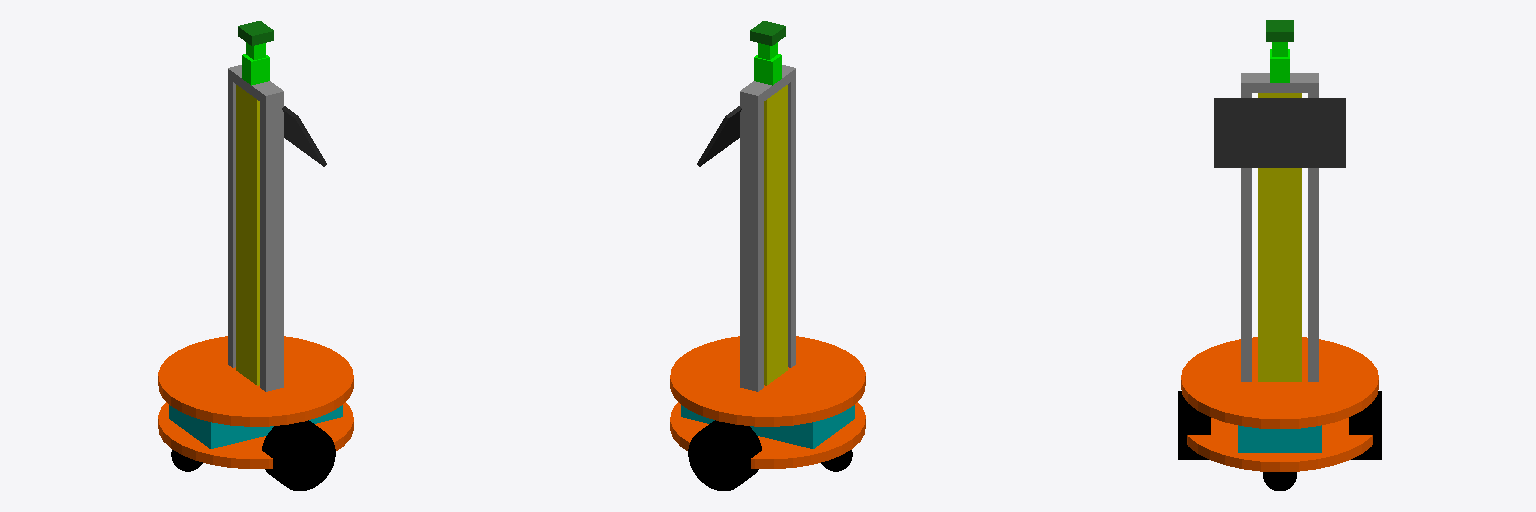
URDF robot description (mybot_xacro):
<?xml version="1.0" ?>
<!-- =================================================================================== -->
<!-- |    This document was autogenerated by xacro from mybot.xacro                    | -->
<!-- |    EDITING THIS FILE BY HAND IS NOT RECOMMENDED                                 | -->
<!-- =================================================================================== -->
<robot name="mybot_xacro" xmlns:controller="http://playerstage.sourceforge.net/gazebo/xmlschema/#controller" xmlns:interface="http://playerstage.sourceforge.net/gazebo/xmlschema/#interface" xmlns:sensor="http://playerstage.sourceforge.net/gazebo/xmlschema/#sensor" xmlns:xacro="http://ros.org/wiki/xacro">
  <!-- KINECT ATTACHMENT -->
  <joint name="camera_rgb_joint" type="fixed">
    <!--origin xyz="${cam_px} ${cam_py} ${cam_pz}" rpy="${cam_or} ${cam_op} ${cam_oy}"/-->
    <origin rpy="0 0 0" xyz="0.028 -0.0125 0.075"/>
    <parent link="kinect_base_link"/>
    <child link="camera_rgb_frame"/>
  </joint>
  <link name="camera_rgb_frame">
    <inertial>
      <mass value="0.001"/>
      <origin xyz="0 0 0"/>
      <inertia ixx="0.0001" ixy="0.0" ixz="0.0" iyy="0.0001" iyz="0.0" izz="0.0001"/>
    </inertial>
  </link>
  <joint name="camera_rgb_optical_joint" type="fixed">
    <origin rpy="-1.57079632679 0 -1.57079632679" xyz="0 0 0"/>
    <parent link="camera_rgb_frame"/>
    <child link="camera_rgb_optical_frame"/>
  </joint>
  <link name="camera_rgb_optical_frame">
    <inertial>
      <mass value="0.001"/>
      <origin xyz="0 0 0"/>
      <inertia ixx="0.0001" ixy="0.0" ixz="0.0" iyy="0.0001" iyz="0.0" izz="0.0001"/>
    </inertial>
  </link>
  <joint name="camera_joint" type="fixed">
    <origin rpy="0 0 0" xyz="-0.031 0.0125 -0.016"/>
    <parent link="camera_rgb_frame"/>
    <child link="camera_link"/>
  </joint>
  <link name="camera_link">
    <visual>
      <!--origin xyz="0 0 0" rpy="0 0 ${M_PI/2}"/-->
      <origin rpy="0 0 1.57079632679" xyz="0 0 0"/>
      <geometry>
        <mesh filename="package://mybot_description/meshes/sensors/kinect.dae"/>
      </geometry>
    </visual>
    <collision>
      <origin rpy="0 0 0" xyz="0.0 0.0 0.0"/>
      <geometry>
        <box size="0.07271 0.27794 0.073"/>
      </geometry>
    </collision>
    <inertial>
      <mass value="0.001"/>
      <origin xyz="0 0 0"/>
      <inertia ixx="0.0001" ixy="0.0" ixz="0.0" iyy="0.0001" iyz="0.0" izz="0.0001"/>
    </inertial>
  </link>
  <joint name="camera_depth_joint" type="fixed">
    <origin rpy="0 0 0" xyz="0 0.025 0"/>
    <parent link="camera_rgb_frame"/>
    <child link="camera_depth_frame"/>
  </joint>
  <link name="camera_depth_frame">
    <inertial>
      <mass value="0.001"/>
      <origin xyz="0 0 0"/>
      <inertia ixx="0.0001" ixy="0.0" ixz="0.0" iyy="0.0001" iyz="0.0" izz="0.0001"/>
    </inertial>
  </link>
  <joint name="camera_depth_optical_joint" type="fixed">
    <origin rpy="-1.57079632679 0 -1.57079632679" xyz="0 0 0"/>
    <parent link="camera_depth_frame"/>
    <child link="camera_depth_optical_frame"/>
  </joint>
  <link name="camera_depth_optical_frame">
    <inertial>
      <mass value="0.001"/>
      <origin xyz="0 0 0"/>
      <inertia ixx="0.0001" ixy="0.0" ixz="0.0" iyy="0.0001" iyz="0.0" izz="0.0001"/>
    </inertial>
  </link>
  <gazebo reference="camera_link">
    <sensor name="camera" type="depth">
      <always_on>true</always_on>
      <update_rate>20.0</update_rate>
      <camera>
        <horizontal_fov>1.0471975512</horizontal_fov>
        <image>
          <format>R8G8B8</format>
          <width>640</width>
          <height>480</height>
        </image>
        <clip>
          <near>0.05</near>
          <far>8.0</far>
        </clip>
      </camera>
      <plugin filename="libgazebo_ros_openni_kinect.so" name="kinect_camera_controller">
        <cameraName>camera</cameraName>
        <alwaysOn>true</alwaysOn>
        <updateRate>10</updateRate>
        <imageTopicName>rgb/image_raw</imageTopicName>
        <depthImageTopicName>depth/image_raw</depthImageTopicName>
        <pointCloudTopicName>depth/points</pointCloudTopicName>
        <cameraInfoTopicName>rgb/camera_info</cameraInfoTopicName>
        <depthImageCameraInfoTopicName>depth/camera_info</depthImageCameraInfoTopicName>
        <frameName>camera_depth_optical_frame</frameName>
        <baseline>0.1</baseline>
        <distortion_k1>0.0</distortion_k1>
        <distortion_k2>0.0</distortion_k2>
        <distortion_k3>0.0</distortion_k3>
        <distortion_t1>0.0</distortion_t1>
        <distortion_t2>0.0</distortion_t2>
        <pointCloudCutoff>0.4</pointCloudCutoff>
      </plugin>
    </sensor>
  </gazebo>
  <!-- LASER ATTACHMENT -->
  <link name="laser">
    <collision>
      <origin rpy="0 0 0" xyz="0 0 0"/>
      <geometry>
        <box size="0.1 0.1 0.1"/>
      </geometry>
    </collision>
    <visual>
      <origin rpy="0 0 0" xyz="0 0 0"/>
      <geometry>
        <mesh filename="package://mybot_description/meshes/sensors/hokuyo.dae"/>
      </geometry>
    </visual>
    <inertial>
      <mass value="1e-5"/>
      <origin rpy="0 0 0" xyz="0 0 0"/>
      <inertia ixx="1e-6" ixy="0" ixz="0" iyy="1e-6" iyz="0" izz="1e-6"/>
    </inertial>
  </link>
  <joint name="laser_joint" type="fixed">
    <axis xyz="0 0 0"/>
    <origin rpy="0 0 0" xyz="0.168 0 0.06"/>
    <parent link="upper_base_link"/>
    <child link="laser"/>
  </joint>
  <!-- Import all Gazebo-customization elements, including Gazebo colors, sensors, controller -->
  <gazebo>
    <plugin filename="libgazebo_ros_control.so" name="gazebo_ros_control">
      <robotNamespace>/mybot_xacro</robotNamespace>
    </plugin>
  </gazebo>
  <gazebo reference="base_link">
    <material>Gazebo/Orange</material>
  </gazebo>
  <gazebo reference="wheel_1">
    <!-- remove friction      
	<mu1>0.0</mu1> 
        <mu2>0.0</mu2>-->
    <!-- -->
    <mu1 value="0.0"/>
    <mu2 value="0.0"/>
    <material>Gazebo/Black</material>
  </gazebo>
  <gazebo reference="wheel_2">
    <material>Gazebo/Black</material>
    <!--
 	<mu1>1000000.0</mu1>
 	<mu2>1000000.0</mu2>
	-->
    <mu1>1000000.0</mu1>
    <mu2>1000000.0</mu2>
    <kp>1000000.0</kp>
    <!--kd>0.5</kd-->
    <kd>100</kd>
    <minDepth>0.001</minDepth>
    <maxVel>1.0</maxVel>
  </gazebo>
  <gazebo reference="wheel_3">
    <!-- remove friction 
	<mu1>0.0</mu1> 
        <mu2>0.0</mu2> -->
    <!-- -->
    <mu1 value="0.0"/>
    <mu2 value="0.0"/>
    <material>Gazebo/Black</material>
  </gazebo>
  <gazebo reference="wheel_4">
    <material>Gazebo/Black</material>
    <mu1>1000000.0</mu1>
    <mu2>1000000.0</mu2>
    <kp>1000000.0</kp>
    <!--kd>0.5</kd-->
    <kd>100.0</kd>
    <minDepth>0.001</minDepth>
    <maxVel>1.0</maxVel>
  </gazebo>
  <gazebo reference="laser">
    <sensor name="head_hokuyo_sensor" type="gpu_ray">
      <pose>0 0 0 0 0 0</pose>
      <visualize>false</visualize>
      <update_rate>40</update_rate>
      <ray>
        <scan>
          <horizontal>
            <samples>720</samples>
            <resolution>1</resolution>
            <!--
	    <min_angle>-1.570796</min_angle>
            <max_angle>1.570796</max_angle> -->
            <min_angle>-2.09</min_angle>
            <max_angle>2.09</max_angle>
          </horizontal>
        </scan>
        <range>
          <min>0.10</min>
          <!--max>30.0</max-->
          <max>8.0</max>
          <resolution>0.01</resolution>
        </range>
        <noise>
          <type>gaussian</type>
          <!-- Noise parameters based on published spec for Hokuyo laser
               achieving "+-30mm" accuracy at range < 10m.  A mean of 0.0m and
               stddev of 0.01m will put 99.7% of samples within 0.03m of the true
               reading. -->
          <mean>0.0</mean>
          <stddev>0.01</stddev>
        </noise>
      </ray>
      <plugin filename="libgazebo_ros_gpu_laser.so" name="gazebo_ros_head_hokuyo_controller">
        <topicName>/scan</topicName>
        <frameName>laser</frameName>
      </plugin>
    </sensor>
  </gazebo>
  <gazebo>
    <plugin filename="libgazebo_ros_diff_drive.so" name="differential_drive_controller">
      <rosDebugLevel>Debug</rosDebugLevel>
      <publishWheelTF>false</publishWheelTF>
      <!--publishTf>1</publishTf-->
      <publishWheelJointState>true</publishWheelJointState>
      <alwaysOn>true</alwaysOn>
      <updateRate>100</updateRate>
      <leftJoint>base_to_wheel2</leftJoint>
      <rightJoint>base_to_wheel4</rightJoint>
      <wheelSeparation>0.390</wheelSeparation>
      <wheelDiameter>0.155</wheelDiameter>
      <wheelTorque>30</wheelTorque>
      <wheelAcceleration>0.25</wheelAcceleration>
      <!-- roslaunch turtlebot_teleop keyboard_teleop.launch 
    <commandTopic>/eddie/command_velocity</commandTopic>
    -->
      <!-- -->
      <commandTopic>cmd_vel</commandTopic>
      <odometryTopic>odom</odometryTopic>
      <odometryFrame>odom</odometryFrame>
      <!--odometrySource>1</odometrySource-->
      <robotBaseFrame>base_footprint</robotBaseFrame>
    </plugin>
  </gazebo>
  <!-- Add view camera - working -->
  <joint name="view_camera_joint" type="continuous">
    <origin rpy="0 1.570796 0" xyz="0 0 6"/>
    <parent link="kinect_base_link"/>
    <child link="view_camera_link"/>
    <!-- use the following line and type="continuous" to fix the angle of the view camera -->
    <axis xyz="1 0 0"/>
  </joint>
  <link name="view_camera_link">
    <inertial>
      <!-- <mass value="0" /> -->
      <mass value="1e-5"/>
      <origin rpy="0 0 0" xyz="0 0 0"/>
      <inertia ixx="1e-6" ixy="0" ixz="0" iyy="1e-6" iyz="0" izz="1e-6"/>
    </inertial>
  </link>
  <gazebo reference="view_camera_link">
    <sensor name="view_camera" type="camera">
      <update_rate>30.0</update_rate>
      <camera name="head">
        <!--horizontal_fov>1.3962634</horizontal_fov-->
        <image>
          <!-- 960x540, 640x480, 800x600-->
          <width>800</width>
          <height>800</height>
          <format>R8G8B8</format>
        </image>
        <clip>
          <near>0.02</near>
          <far>300</far>
        </clip>
        <noise>
          <type>gaussian</type>
          <mean>0.0</mean>
          <stddev>0.007</stddev>
        </noise>
      </camera>
      <plugin filename="libgazebo_ros_camera.so" name="camera_controller">
        <alwaysOn>true</alwaysOn>
        <updateRate>25.0</updateRate>
        <cameraName>view_camera</cameraName>
        <imageTopicName>image_raw</imageTopicName>
        <cameraInfoTopicName>camera_info</cameraInfoTopicName>
        <frameName>view_camera_link</frameName>
        <CxPrime>320.5</CxPrime>
        <Cx>320.5</Cx>
        <Cy>240.5</Cy>
        <!-- image_width / (2*tan(hfov_radian /2)) -->
        <!-- 320 for wide and 772.55 for narrow stereo camera -->
        <focal_length>320</focal_length>
        <distortion_k1>0.0</distortion_k1>
        <distortion_k2>0.0</distortion_k2>
        <distortion_k3>0.0</distortion_k3>
        <distortion_t1>0.0</distortion_t1>
        <distortion_t2>0.0</distortion_t2>
      </plugin>
    </sensor>
    <!--turnGravityOff>true</turnGravityOff-->
    <material>Gazebo/Blue</material>
  </gazebo>
  <!--xacro:property name="height_torso" value="0.625" /-->
  <link name="base_footprint">
    <visual>
      <geometry>
        <box size="0.001 0.001 0.001"/>
      </geometry>
      <origin rpy="0 0 0" xyz="0 0 0"/>
      <!--origin rpy="0 0 -0.784900" xyz="0 0 0"/-->
    </visual>
    <inertial>
      <mass value="0.0001"/>
      <inertia ixx="1.0" ixy="0.0" ixz="0.0" iyy="1.0" iyz="0.0" izz="1.0"/>
    </inertial>
  </link>
  <gazebo reference="base_footprint">
    <material>Gazebo/Green</material>
    <turnGravityOff>false</turnGravityOff>
  </gazebo>
  <joint name="base_footprint_joint" type="fixed">
    <origin xyz="0 0 0"/>
    <parent link="base_footprint"/>
    <child link="base_link"/>
  </joint>
  <link name="base_link">
    <visual>
      <origin rpy="0 0 0" xyz="0 0 0"/>
      <geometry>
        <cylinder length="0.025" radius="0.225"/>
      </geometry>
      <material name="Orange">
        <color rgba="1.0 0.4 0.0 1.0"/>
      </material>
    </visual>
    <collision>
      <geometry>
        <cylinder length="0.025" radius="0.225"/>
      </geometry>
    </collision>
    <inertial>
      <mass value="10"/>
      <inertia ixx="0.571875" ixy="0" ixz="0" iyy="0.571875" iyz="0" izz="1.1390625"/>
    </inertial>
  </link>
  <!--front wheel -->
  <link name="wheel_1">
    <visual>
      <origin rpy="0 0 0" xyz="0 0 0"/>
      <geometry>
        <sphere radius="0.03875"/>
      </geometry>
      <material name="black">
        <color rgba="0 0 0 1"/>
      </material>
    </visual>
    <collision>
      <origin rpy="0 0 0" xyz="0 0 0"/>
      <geometry>
        <sphere radius="0.03875"/>
      </geometry>
    </collision>
    <inertial>
      <origin rpy="0 0 0" xyz="0 0 0"/>
      <mass value="2"/>
      <inertia ixx="0.00120125" ixy="0" ixz="0" iyy="0.00120125" iyz="0" izz="0.00120125"/>
    </inertial>
  </link>
  <!-- left wheel -->
  <link name="wheel_2">
    <visual>
      <geometry>
        <cylinder length="0.075" radius="0.0775"/>
      </geometry>
      <!-- <origin rpy="0 1.5 0" xyz="-0.1 0.1 0"/> -->
      <origin rpy="0 0 0" xyz="0 0 0"/>
      <material name="black"/>
    </visual>
    <collision>
      <origin rpy="0 0 0" xyz="0 0 0"/>
      <geometry>
        <cylinder length="0.075" radius="0.0775"/>
      </geometry>
    </collision>
    <inertial>
      <mass value="2"/>
      <inertia ixx="0.003940625" ixy="0" ixz="0" iyy="0.003940625" iyz="0" izz="0.00600625"/>
    </inertial>
  </link>
  <!-- back wheel -->
  <link name="wheel_3">
    <visual>
      <origin rpy="0 0 0" xyz="0 0 0"/>
      <geometry>
        <sphere radius="0.03875"/>
      </geometry>
      <material name="black">
        <color rgba="0 0 0 1"/>
      </material>
    </visual>
    <collision>
      <origin rpy="0 0 0" xyz="0 0 0"/>
      <geometry>
        <sphere radius="0.03875"/>
      </geometry>
    </collision>
    <inertial>
      <origin rpy="0 0 0" xyz="0 0 0"/>
      <mass value="2"/>
      <inertia ixx="0.00120125" ixy="0" ixz="0" iyy="0.00120125" iyz="0" izz="0.00120125"/>
    </inertial>
  </link>
  <!-- right wheel -->
  <link name="wheel_4">
    <visual>
      <geometry>
        <cylinder length="0.075" radius="0.0775"/>
      </geometry>
      <!--	<origin rpy="0 1.5 0" xyz="-0.1 -0.1 0"/> -->
      <origin rpy="0 0 0" xyz="0 0 0"/>
      <material name="black"/>
    </visual>
    <collision>
      <origin rpy="0 0 0" xyz="0 0 0"/>
      <geometry>
        <cylinder length="0.075" radius="0.0775"/>
      </geometry>
    </collision>
    <inertial>
      <mass value="2"/>
      <inertia ixx="0.003940625" ixy="0" ixz="0" iyy="0.003940625" iyz="0" izz="0.00600625"/>
    </inertial>
  </link>
  <link name="cpu_link">
    <visual>
      <geometry>
        <box size="0.35 .19 0.095"/>
      </geometry>
      <origin rpy="0 0 0" xyz="0 0 0.0475"/>
      <material name="Cyan2">
        <color rgba="0 0.7 0.7 1.0"/>
      </material>
    </visual>
    <collision>
      <origin rpy="0 0 0" xyz="0 0 0.0475"/>
      <geometry>
        <box size="0.35 .19 0.095"/>
      </geometry>
    </collision>
    <inertial>
      <mass value="2"/>
      <inertia ixx="1.0" ixy="0.0" ixz="0.0" iyy="1.0" iyz="0.0" izz="1.0"/>
    </inertial>
  </link>
  <link name="upper_base_link">
    <visual>
      <origin rpy="0 0 0" xyz="0 0 0.0125"/>
      <geometry>
        <cylinder length="0.025" radius="0.225"/>
      </geometry>
      <material name="Orange">
        <color rgba="1.0 0.4 0.0 1.0"/>
      </material>
    </visual>
    <collision>
      <origin rpy="0 0 0" xyz="0 0 0.0125"/>
      <geometry>
        <cylinder length="0.025" radius="0.225"/>
      </geometry>
    </collision>
    <inertial>
      <mass value="1"/>
      <inertia ixx="1.0" ixy="0.0" ixz="0.0" iyy="1.0" iyz="0.0" izz="1.0"/>
    </inertial>
  </link>
  <link name="torso_link">
    <visual>
      <origin rpy="0 0 0" xyz="0 0 0.3625"/>
      <geometry>
        <box size="0.05 0.1 0.725"/>
      </geometry>
      <material name="Yellow2">
        <color rgba="0.8 0.8 0 1.0"/>
      </material>
    </visual>
    <collision>
      <origin rpy="0 0 0" xyz="0 0 0.3625"/>
      <geometry>
        <box size="0.05 0.1 0.725"/>
      </geometry>
    </collision>
    <inertial>
      <mass value="1"/>
      <inertia ixx="1.0" ixy="0.0" ixz="0.0" iyy="1.0" iyz="0.0" izz="1.0"/>
    </inertial>
  </link>
  <link name="right_torso_link">
    <visual>
      <origin rpy="0 0 0" xyz="0 0 0.3625"/>
      <geometry>
        <box size="0.05 0.025 0.725"/>
      </geometry>
      <material name="Grey2">
        <color rgba="0.6 0.6 0.6 1.0"/>
      </material>
    </visual>
    <collision>
      <origin rpy="0 0 0" xyz="0 0 0.3625"/>
      <geometry>
        <box size="0.05 0.1 0.725"/>
      </geometry>
    </collision>
    <inertial>
      <mass value="1"/>
      <inertia ixx="1.0" ixy="0.0" ixz="0.0" iyy="1.0" iyz="0.0" izz="1.0"/>
    </inertial>
  </link>
  <link name="left_torso_link">
    <visual>
      <origin rpy="0 0 0" xyz="0 0 0.3625"/>
      <geometry>
        <box size="0.05 0.025 0.725"/>
      </geometry>
      <material name="Grey2">
        <color rgba="0.6 0.6 0.6 1.0"/>
      </material>
    </visual>
    <collision>
      <origin rpy="0 0 0" xyz="0 0 0.3625"/>
      <geometry>
        <box size="0.05 0.1 0.725"/>
      </geometry>
    </collision>
    <inertial>
      <mass value="1"/>
      <inertia ixx="1.0" ixy="0.0" ixz="0.0" iyy="1.0" iyz="0.0" izz="1.0"/>
    </inertial>
  </link>
  <link name="top_torso_link">
    <visual>
      <origin rpy="0 0 0" xyz="0 0 0.0125"/>
      <geometry>
        <box size="0.05 0.175 0.025"/>
      </geometry>
      <material name="Grey2">
        <color rgba="0.6 0.6 0.6 1.0"/>
      </material>
    </visual>
    <collision>
      <origin rpy="0 0 0" xyz="0 0 0.0125"/>
      <geometry>
        <box size="0.05 0.125 0.025"/>
      </geometry>
    </collision>
    <inertial>
      <mass value="0.125"/>
      <inertia ixx="1.0" ixy="0.0" ixz="0.0" iyy="1.0" iyz="0.0" izz="1.0"/>
    </inertial>
  </link>
  <link name="head_pan_link">
    <visual>
      <origin rpy="0 0 0" xyz="0 0 0.03"/>
      <geometry>
        <box size="0.05 0.045 0.06"/>
      </geometry>
      <material name="Green1">
        <color rgba="0 1 0 1.0"/>
      </material>
    </visual>
    <collision>
      <origin rpy="0 0 0" xyz="0 0 0.03"/>
      <geometry>
        <box size="0.05 0.045 0.06"/>
      </geometry>
    </collision>
    <inertial>
      <mass value="0.125"/>
      <inertia ixx="1.0" ixy="0.0" ixz="0.0" iyy="1.0" iyz="0.0" izz="1.0"/>
    </inertial>
  </link>
  <link name="head_tilt_link">
    <visual>
      <origin rpy="0 0 0" xyz="0 0 0.0225"/>
      <geometry>
        <box size="0.03 0.038 0.045"/>
      </geometry>
      <material name="Green1">
        <color rgba="0 1 0 1.0"/>
      </material>
    </visual>
    <collision>
      <origin rpy="0 0 0" xyz="0 0 0.0225"/>
      <geometry>
        <box size="0.03 0.038 0.045"/>
      </geometry>
    </collision>
    <inertial>
      <mass value="0.125"/>
      <inertia ixx="1.0" ixy="0.0" ixz="0.0" iyy="1.0" iyz="0.0" izz="1.0"/>
    </inertial>
  </link>
  <link name="kinect_base_link">
    <visual>
      <origin rpy="0 0 0" xyz="0 0 0.0125"/>
      <geometry>
        <box size="0.06 0.065 0.025"/>
      </geometry>
      <material name="Green3">
        <color rgba="0.1 0.5 0.1 1.0"/>
      </material>
    </visual>
    <collision>
      <geometry>
        <box size="0.06 0.065 0.025"/>
      </geometry>
    </collision>
    <inertial>
      <mass value="0.125"/>
      <inertia ixx="1.0" ixy="0.0" ixz="0.0" iyy="1.0" iyz="0.0" izz="1.0"/>
    </inertial>
  </link>
  <link name="screen_link">
    <visual>
      <origin rpy="0 -0.5 0" xyz="0.06 0 -0.11"/>
      <geometry>
        <box size="0.01 0.3 0.16"/>
      </geometry>
      <material name="Grey3">
        <color rgba="0.2 0.2 0.2 1.0"/>
      </material>
    </visual>
    <collision>
      <origin rpy="0 -0.5 0" xyz="0.06 0 -0.11"/>
      <geometry>
        <box size="0.01 0.3 0.16"/>
      </geometry>
    </collision>
    <inertial>
      <mass value="0.125"/>
      <inertia ixx="1.0" ixy="0.0" ixz="0.0" iyy="1.0" iyz="0.0" izz="1.0"/>
    </inertial>
  </link>
  <!-- -->
  <joint name="base_to_wheel1" type="fixed">
    <parent link="base_link"/>
    <child link="wheel_1"/>
    <!--added length_base/32 to get the contact of the wheel with the floor -->
    <origin rpy="0 0 0" xyz="0.18 0 -0.03865234375"/>
    <axis xyz="0 0 1"/>
  </joint>
  <joint name="base_to_wheel2" type="continuous">
    <axis xyz="0 0 1"/>
    <anchor xyz="0 0 0"/>
    <limit effort="100" velocity="100"/>
    <parent link="base_link"/>
    <child link="wheel_2"/>
    <origin rpy="-1.5707 0 0" xyz="0 -0.195 0"/>
  </joint>
  <!-- -->
  <joint name="base_to_wheel3" type="fixed">
    <parent link="base_link"/>
    <axis xyz="0 0 1"/>
    <child link="wheel_3"/>
    <!--added length_base/32 to get the contact of the wheel with the floor -->
    <origin rpy="0 0 0" xyz="-0.18 0 -0.03865234375"/>
  </joint>
  <joint name="base_to_wheel4" type="continuous">
    <parent link="base_link"/>
    <axis xyz="0 0 1"/>
    <child link="wheel_4"/>
    <origin rpy="-1.5707 0 0" xyz="0 0.195 0"/>
  </joint>
  <joint name="cpu_base_joint" type="fixed">
    <origin xyz="0 0 0"/>
    <parent link="base_link"/>
    <child link="cpu_link"/>
  </joint>
  <joint name="upper_base_cpu_joint" type="fixed">
    <origin xyz="0 0 0.095"/>
    <parent link="cpu_link"/>
    <child link="upper_base_link"/>
  </joint>
  <joint name="torso_upper_base_joint" type="fixed">
    <origin xyz="0 0 0.025"/>
    <parent link="upper_base_link"/>
    <child link="torso_link"/>
  </joint>
  <joint name="right_torso_upper_base_joint" type="fixed">
    <origin xyz="0 -0.075 0.025"/>
    <parent link="upper_base_link"/>
    <child link="right_torso_link"/>
  </joint>
  <joint name="left_torso_upper_base_joint" type="fixed">
    <parent link="upper_base_link"/>
    <child link="left_torso_link"/>
    <origin xyz="0 0.075 0.025"/>
  </joint>
  <joint name="top_torso_torso_joint" type="fixed">
    <parent link="torso_link"/>
    <child link="top_torso_link"/>
    <origin xyz="0 0 0.725"/>
  </joint>
  <joint name="head_pan_servo" type="fixed">
    <parent link="top_torso_link"/>
    <child link="head_pan_link"/>
    <origin rpy="0 0 0" xyz="0 0 0.025"/>
  </joint>
  <joint name="head_pan_joint" type="fixed">
    <parent link="head_pan_link"/>
    <child link="head_tilt_link"/>
    <origin rpy="0 0 0" xyz="0 0 0.06"/>
  </joint>
  <joint name="kinect_base_joint" type="fixed">
    <parent link="head_tilt_link"/>
    <child link="kinect_base_link"/>
    <origin rpy="0 0 0" xyz="0 0 0.045"/>
  </joint>
  <joint name="screen_joint" type="fixed">
    <parent link="top_torso_link"/>
    <child link="screen_link"/>
    <origin rpy="0 0 0" xyz="0 0 0.025"/>
  </joint>
</robot>

--- What the picture shows (computed from the rendered views, not written in the file) ---
Views: 3 orthographic renders of the robot side by side, from view 1: azimuth 30°, elevation 25°; view 2: azimuth 150°, elevation 25°; view 3: azimuth 270°, elevation 25°.
Model mybot_xacro with 23 links and 22 joints (3 continuous, 19 fixed), rooted at base_footprint, posed every joint at zero.
Visible links, largest first — view 1: upper_base_link, torso_link, right_torso_link, wheel_2, base_link, left_torso_link, cpu_link, screen_link, top_torso_link, head_pan_link, kinect_base_link; view 2: upper_base_link, torso_link, left_torso_link, wheel_4, base_link, right_torso_link, cpu_link, screen_link, top_torso_link, head_pan_link, kinect_base_link; view 3: upper_base_link, torso_link, screen_link, base_link, right_torso_link, left_torso_link, cpu_link, top_torso_link, wheel_2, wheel_4, kinect_base_link, head_pan_link (+1 smaller).
Link boxes in pixels (x1,y1,x2,y2): upper_base_link: [158, 336, 353, 426]; torso_link: [236, 85, 259, 385]; right_torso_link: [260, 101, 283, 391]; wheel_2: [262, 420, 335, 490]; base_link: [158, 402, 353, 468]; left_torso_link: [228, 79, 235, 367]; cpu_link: [169, 405, 342, 448]; screen_link: [282, 106, 326, 166]; top_torso_link: [228, 65, 283, 105]; head_pan_link: [242, 54, 269, 85]; kinect_base_link: [238, 21, 273, 45]; upper_base_link: [670, 336, 865, 426]; torso_link: [764, 85, 787, 385]; left_torso_link: [740, 101, 763, 391]; wheel_4: [688, 420, 761, 490]; base_link: [670, 402, 865, 468]; right_torso_link: [788, 79, 795, 367]; cpu_link: [681, 405, 854, 448]; screen_link: [697, 106, 741, 166]; top_torso_link: [740, 65, 795, 105]; head_pan_link: [754, 54, 781, 85]; kinect_base_link: [750, 21, 785, 45]; upper_base_link: [1181, 337, 1378, 428]; torso_link: [1258, 93, 1301, 381]; screen_link: [1214, 98, 1345, 167]; base_link: [1187, 418, 1372, 471]; right_torso_link: [1241, 93, 1251, 381]; left_torso_link: [1308, 93, 1318, 381]; cpu_link: [1238, 425, 1321, 452]; top_torso_link: [1241, 73, 1318, 92]; wheel_2: [1178, 391, 1210, 459]; wheel_4: [1349, 391, 1381, 459]; kinect_base_link: [1266, 20, 1293, 41]; head_pan_link: [1270, 49, 1289, 82].
Size in the robot's own frame: 0.45 by 0.465 by 1.08 metres.
0 mesh visuals loaded from 2 distinct referenced files (none loaded); not drawn: 2 (reference not matched to a file when rendering).